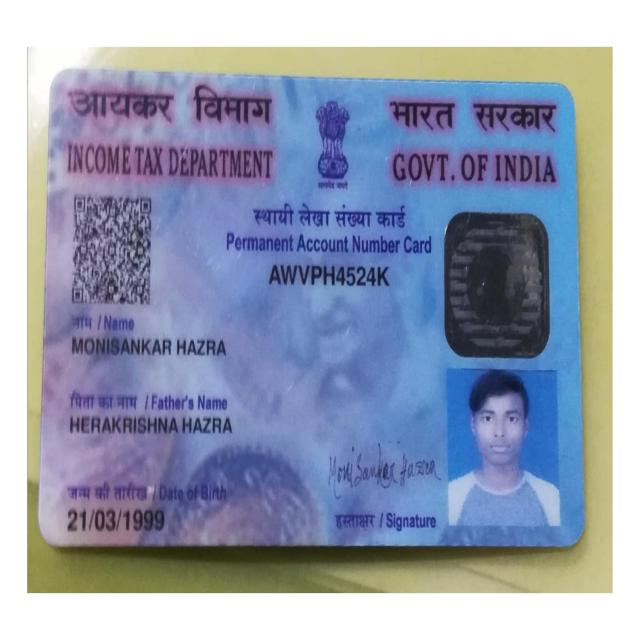pan_card: (47, 78, 573, 542)
